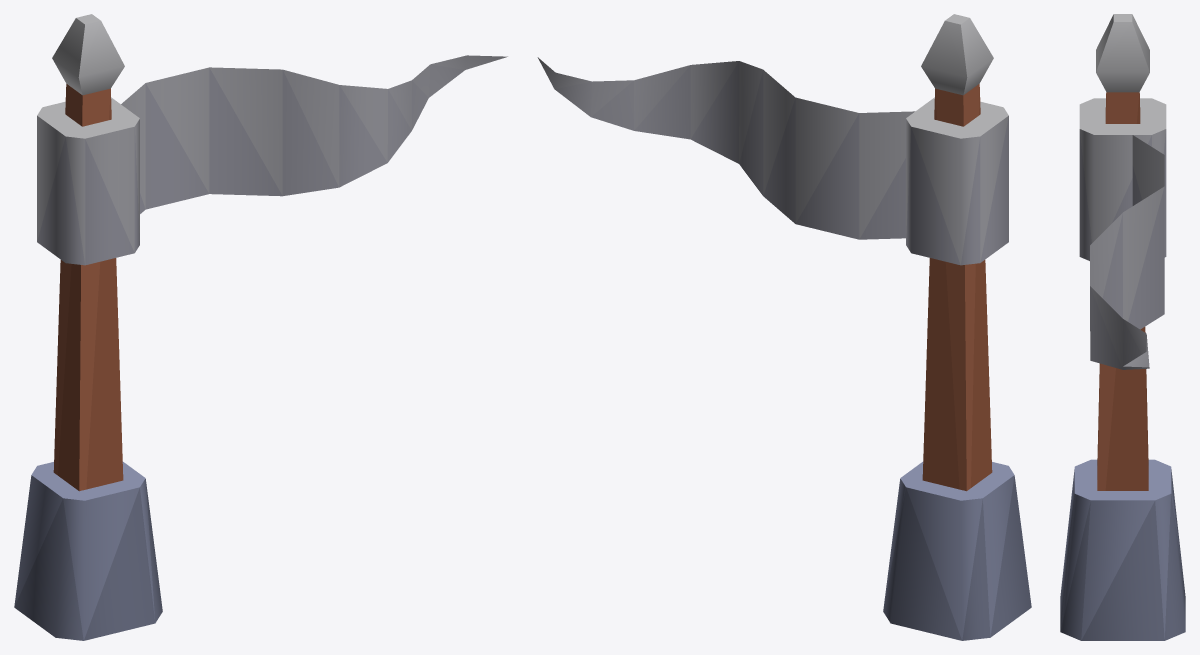
Rendered from pirate_flag_pennant.glb.
3 views of the same model, side by side, from view 1: azimuth 30°, elevation 25°; view 2: azimuth 150°, elevation 25°; view 3: azimuth 270°, elevation 25° (orthographic).
Parts seen in each view (by area): view 1: pirate_flag_pennant; view 2: pirate_flag_pennant; view 3: pirate_flag_pennant.
Part boxes in pixels (x1,y1,x2,y2): pirate_flag_pennant: [14, 14, 507, 640]; pirate_flag_pennant: [537, 14, 1031, 640]; pirate_flag_pennant: [1060, 14, 1185, 640].
Bounding box in the file's own units: 1.76 × 2.1 × 0.3989.
